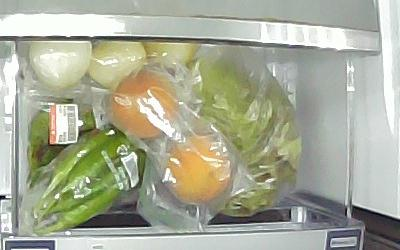peach_vinyl: (112, 71, 178, 139), (169, 134, 232, 203)
